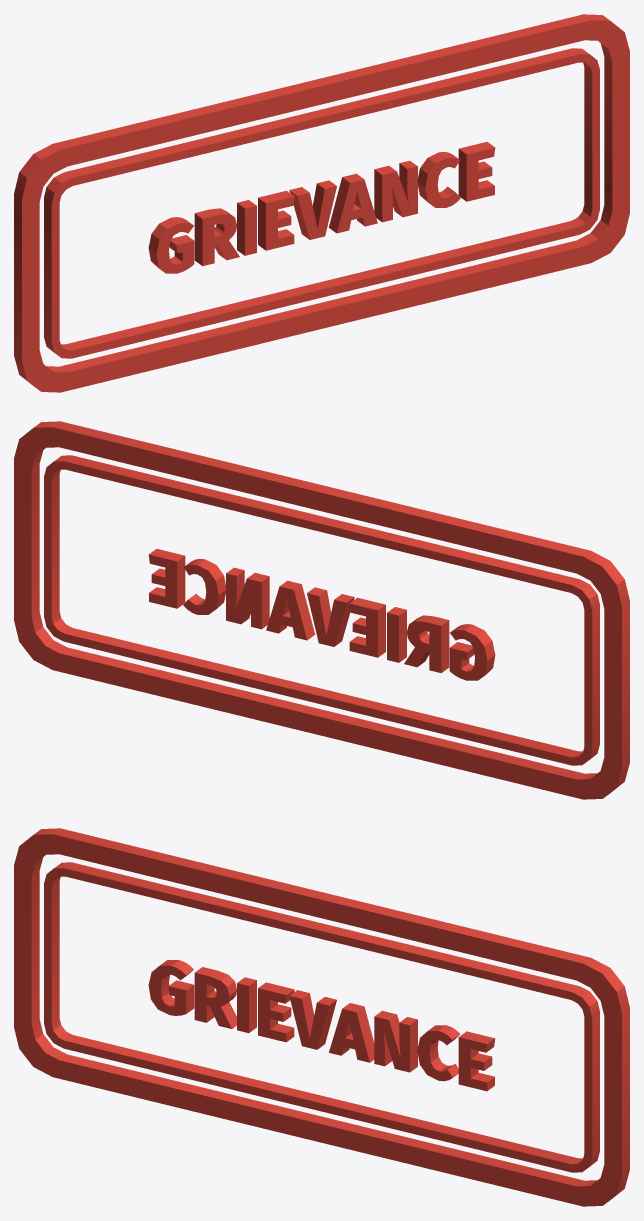
File: stamp_grievance.fbx
3 renders of one model, top to bottom at view 1: azimuth 30°, elevation 25°; view 2: azimuth 150°, elevation 25°; view 3: azimuth 330°, elevation 25°, orthographic.
Visible parts, largest first — view 1: StampGrievance; view 2: StampGrievance; view 3: StampGrievance.
Part boxes in pixels (x1=…): StampGrievance: x1=14, y1=14, x2=629, y2=392; StampGrievance: x1=14, y1=421, x2=629, y2=799; StampGrievance: x1=14, y1=828, x2=629, y2=1206.
Size of the model in its own units: 0.11 by 0.042 by 0.0025.
Materials: 1 (1 with a texture image).
